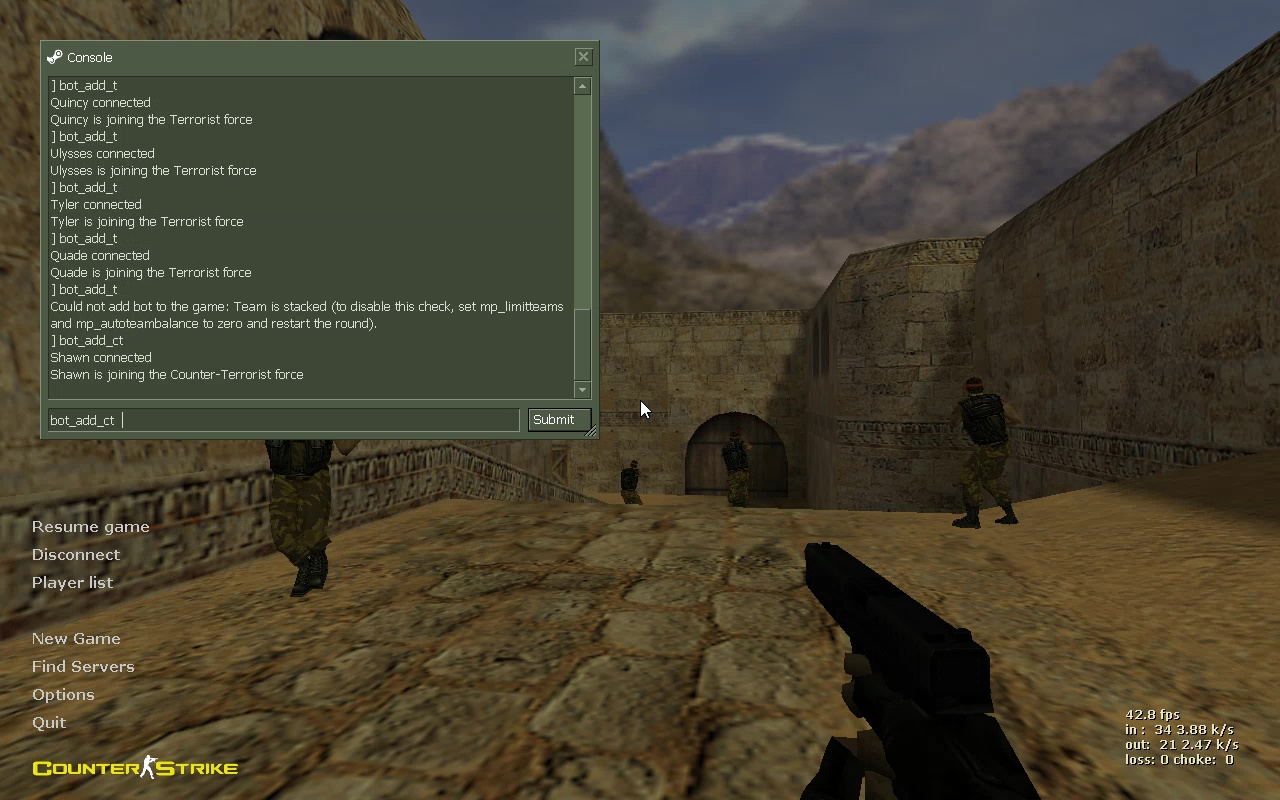terr1: (947, 375, 1023, 533), (719, 431, 754, 514), (615, 458, 643, 508)
